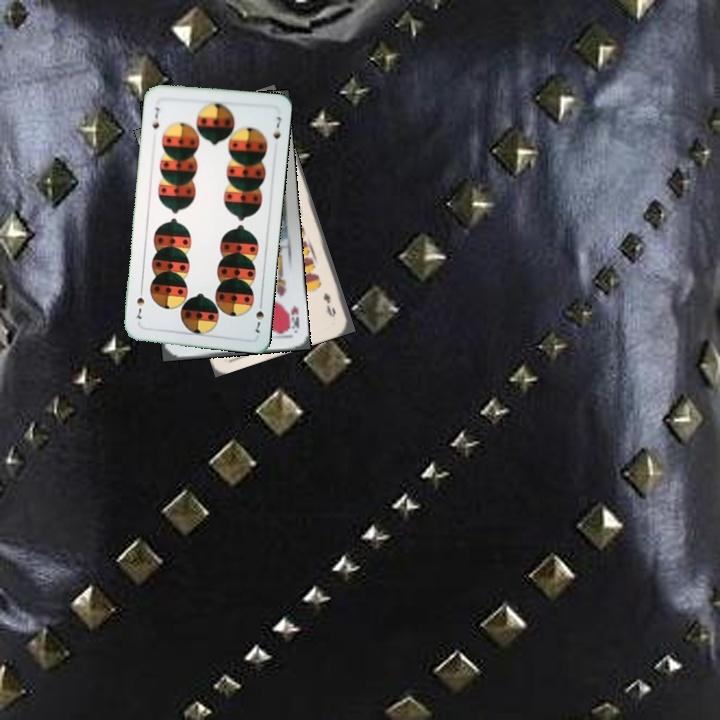E9: (319, 289, 338, 319)
HK: (283, 302, 302, 334)
S7: (252, 296, 266, 336), (148, 103, 162, 131)
